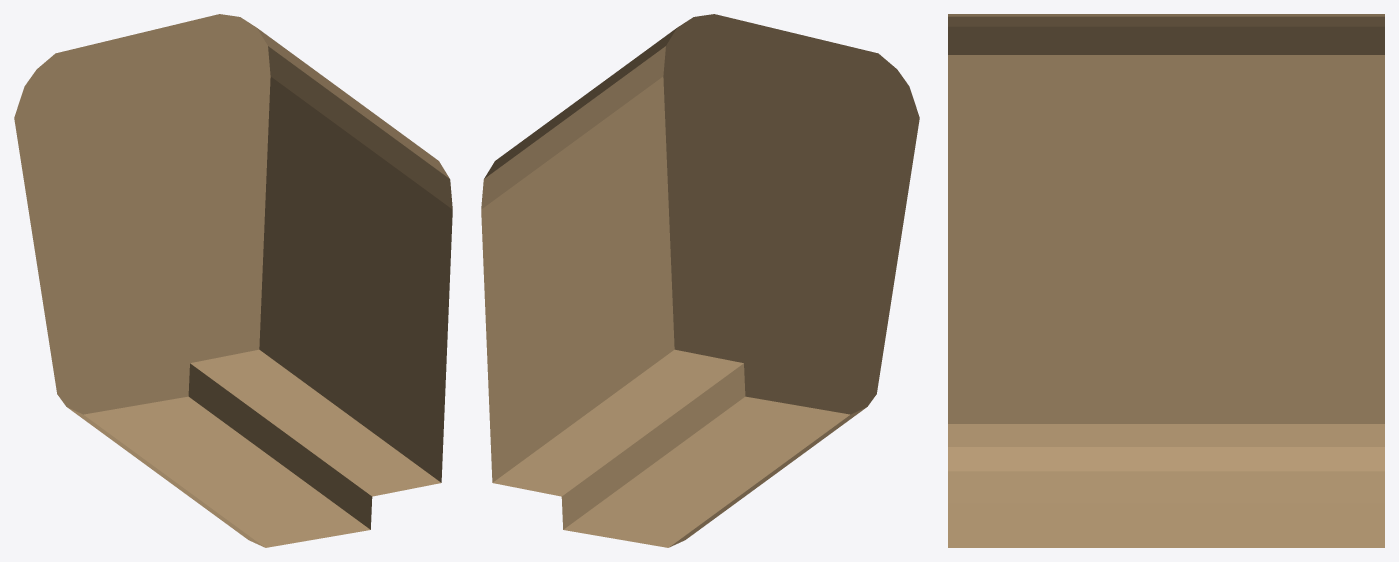
The picture shows the model from 3 angles, left to right: view 1: azimuth 30°, elevation 25°; view 2: azimuth 150°, elevation 25°; view 3: azimuth 270°, elevation 25°; orthographic projection. The views are drawn at different scales.
Visible parts, largest first — view 1: 0_3_2_0_1_0_0_2_3_2; view 2: 0_3_2_0_1_0_0_2_3_2; view 3: 0_3_2_0_1_0_0_2_3_2.
Boxes of the visible parts, x1=… form: 0_3_2_0_1_0_0_2_3_2: x1=14, y1=14, x2=452, y2=547; 0_3_2_0_1_0_0_2_3_2: x1=481, y1=14, x2=919, y2=547; 0_3_2_0_1_0_0_2_3_2: x1=948, y1=14, x2=1384, y2=547.
Size of the model in its own units: 17.06 by 23.88 by 21.
